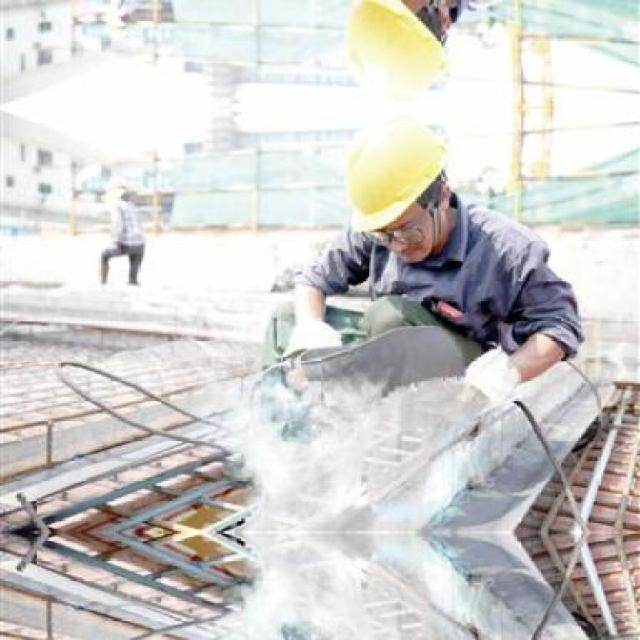helmet: (326, 105, 474, 270), (324, 0, 476, 108)
